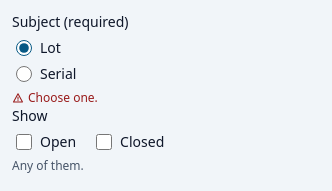
the controls › ChoiceGroup and RadioGroup: a fieldset named by its legend, one name, invalid choices
Click the radio button labelled "Serial": (24, 74) left=16, top=66, right=32, bottom=82
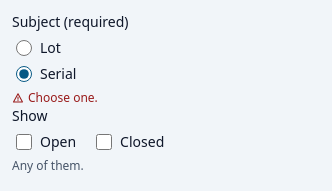
expect the text "Any of them." is shown: met, box left=12, top=157, right=84, bottom=174
expect the radio button labelled "Serial" is checked: met, box left=16, top=66, right=32, bottom=82
expect the radio button labelled "Lot" is not checked: met, box left=16, top=40, right=32, bottom=56
